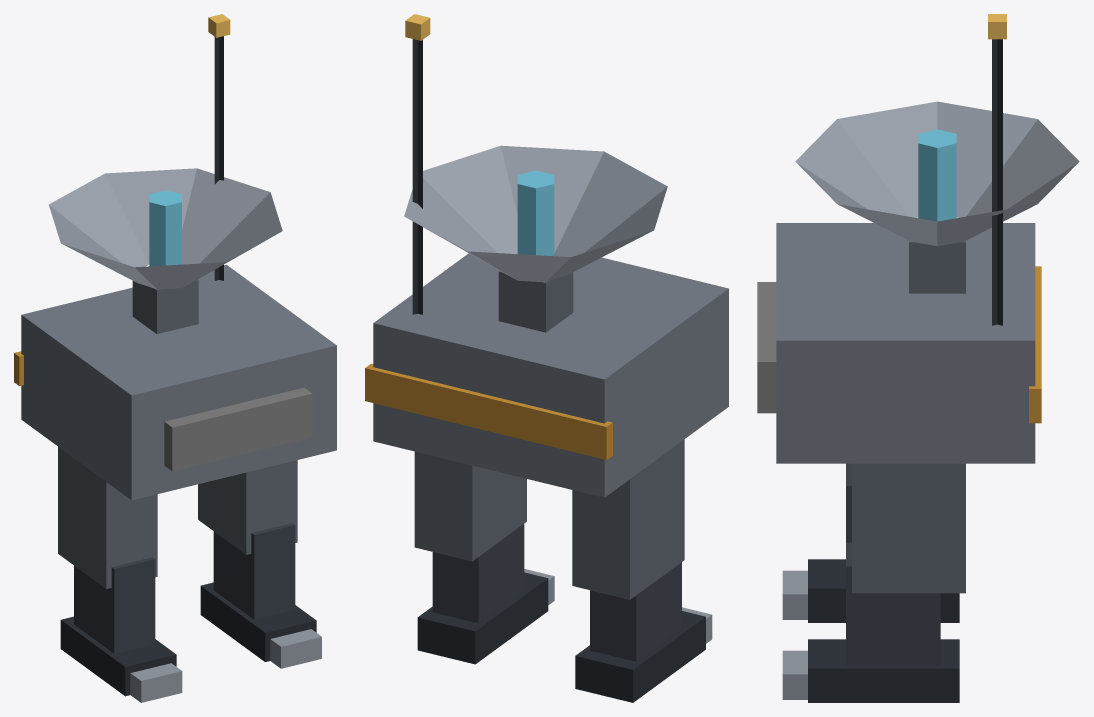
File: hound.obj
3 renders of one model, left to right at view 1: azimuth 30°, elevation 25°; view 2: azimuth 150°, elevation 25°; view 3: azimuth 270°, elevation 25°, orthographic. The views are drawn at different scales.
Visible parts, largest first — view 1: hound; view 2: hound; view 3: hound.
Part boxes in pixels (x1,y1,x2,y2): hound: (14,14,336,702); hound: (365,14,728,702); hound: (757,14,1079,702).
Size of the model in its own units: 0.92 by 2.36 by 1.02.
